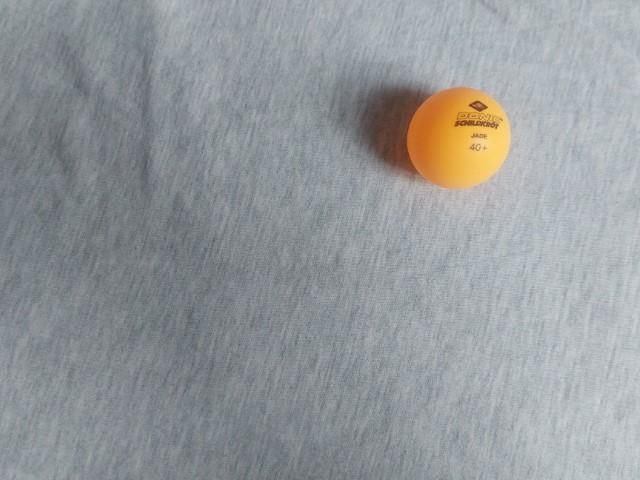oball: (119, 286, 237, 398)
